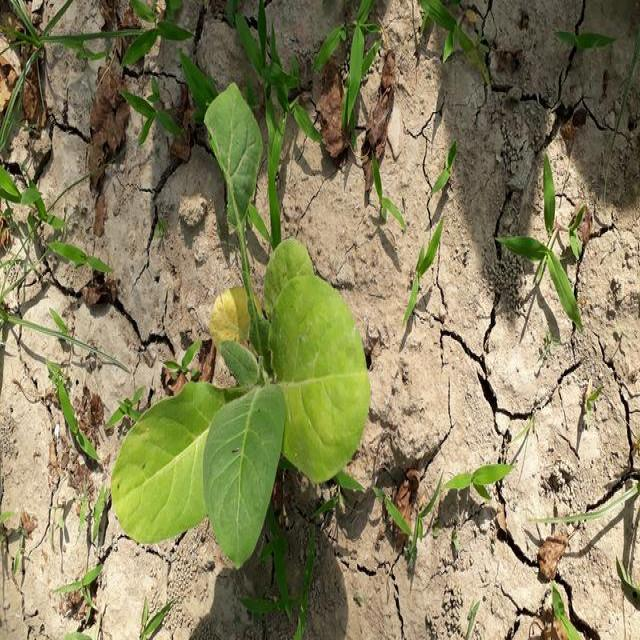crop: (114, 89, 368, 592)
